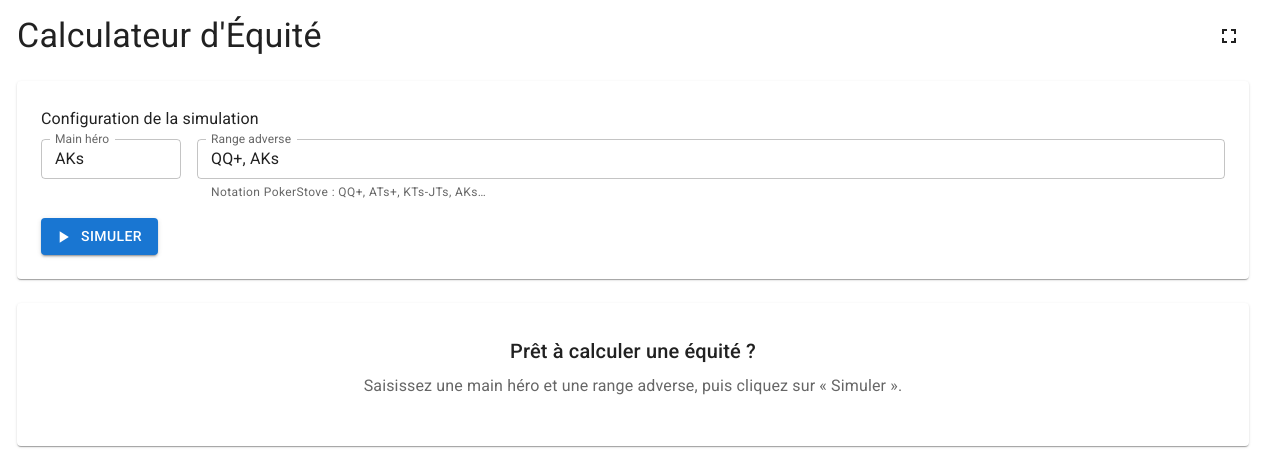
it: Equity page › shows a validation error for an invalid hero hand
This screenshot has width=1267, height=465.
Replace the text in the field with test id "equity-hero-input" with "ZZ" at (111, 159), box [41,139,181,179]
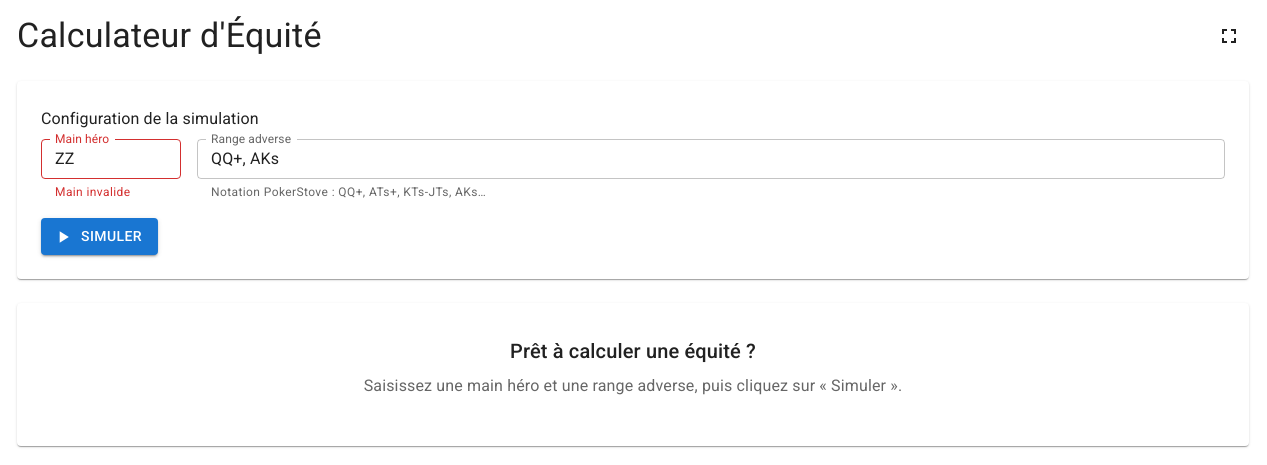
Click the button with test id "equity-simulate-button" at (99, 237), box [41,218,158,255]
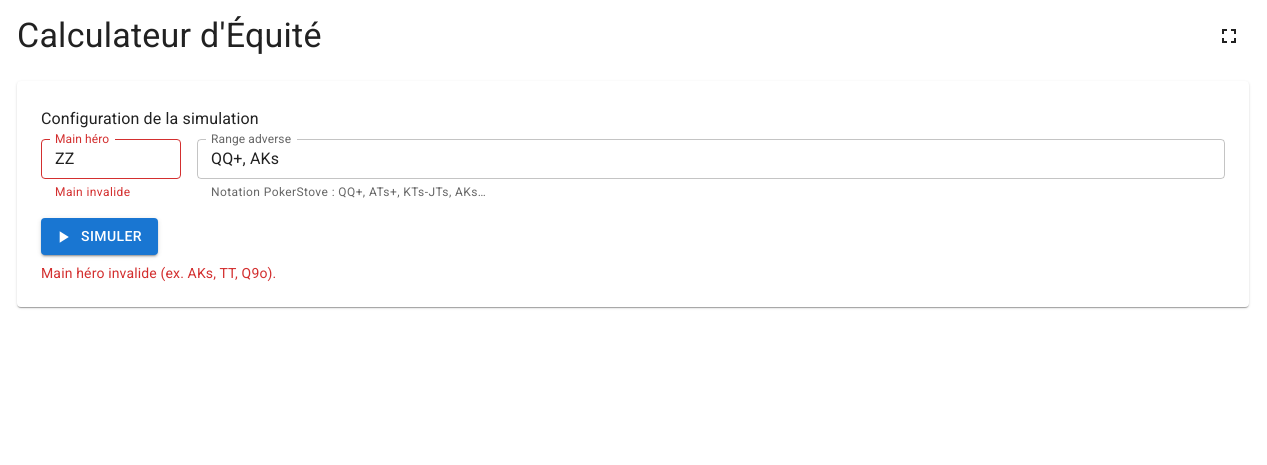
Now the text "Main héro invalide (ex. AKs, TT, Q9o)." is shown, box [41,265,276,281]
